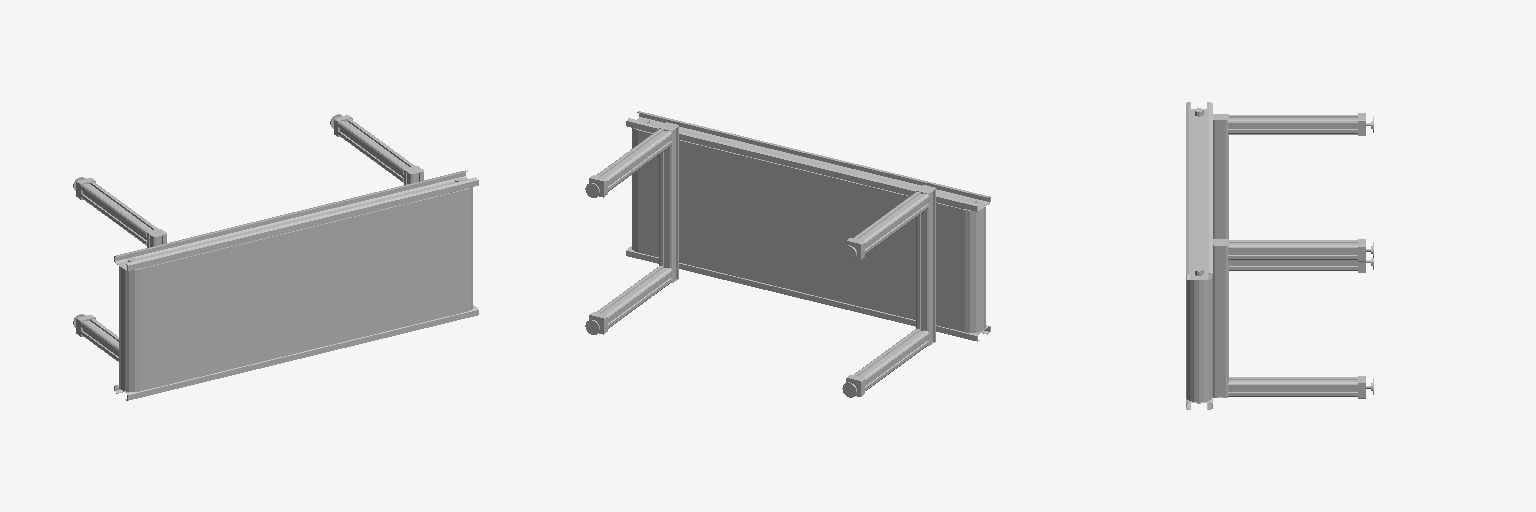
File: Conveyor1.obj
The picture shows the model from 3 angles: view 1: azimuth 30°, elevation 25°; view 2: azimuth 150°, elevation 25°; view 3: azimuth 270°, elevation 25°; orthographic projection.
Parts seen in each view (by area): view 1: TopBelt, OpenBeam_1, AluBeam_1_3_1, Block, OpenBeam, AluBeam_1_3_1_2, Block_1; view 2: BottomBelt, OpenBeam_1, AluBeam_1_3_1_1, AluBeam_1_3_1, AluBeam_1_3_1_2, Block, OpenBeam, Block_1; view 3: AluBeam_1_3_1, OpenBeam_1, AluBeam_1_3_1_1, AluBeam_1_3_1_2, Block_1.
Part boxes in pixels (bbox=[...]): TopBelt: bbox=[140, 189, 466, 390]; OpenBeam_1: bbox=[114, 170, 478, 270]; AluBeam_1_3_1: bbox=[81, 119, 414, 245]; Block: bbox=[119, 266, 139, 391]; OpenBeam: bbox=[114, 305, 478, 400]; AluBeam_1_3_1_2: bbox=[81, 319, 118, 361]; Block_1: bbox=[467, 187, 472, 311]; BottomBelt: bbox=[638, 130, 964, 331]; OpenBeam_1: bbox=[626, 111, 990, 211]; AluBeam_1_3_1_1: bbox=[659, 127, 935, 345]; AluBeam_1_3_1: bbox=[596, 129, 928, 254]; AluBeam_1_3_1_2: bbox=[596, 266, 928, 390]; Block: bbox=[965, 207, 985, 332]; OpenBeam: bbox=[626, 246, 990, 341]; Block_1: bbox=[632, 128, 637, 251]; AluBeam_1_3_1: bbox=[1228, 115, 1357, 259]; OpenBeam_1: bbox=[1186, 102, 1212, 279]; AluBeam_1_3_1_1: bbox=[1213, 120, 1228, 397]; AluBeam_1_3_1_2: bbox=[1228, 260, 1357, 396]; Block_1: bbox=[1186, 280, 1211, 402].
Size of the model in its own units: 1501 by 626 by 700.